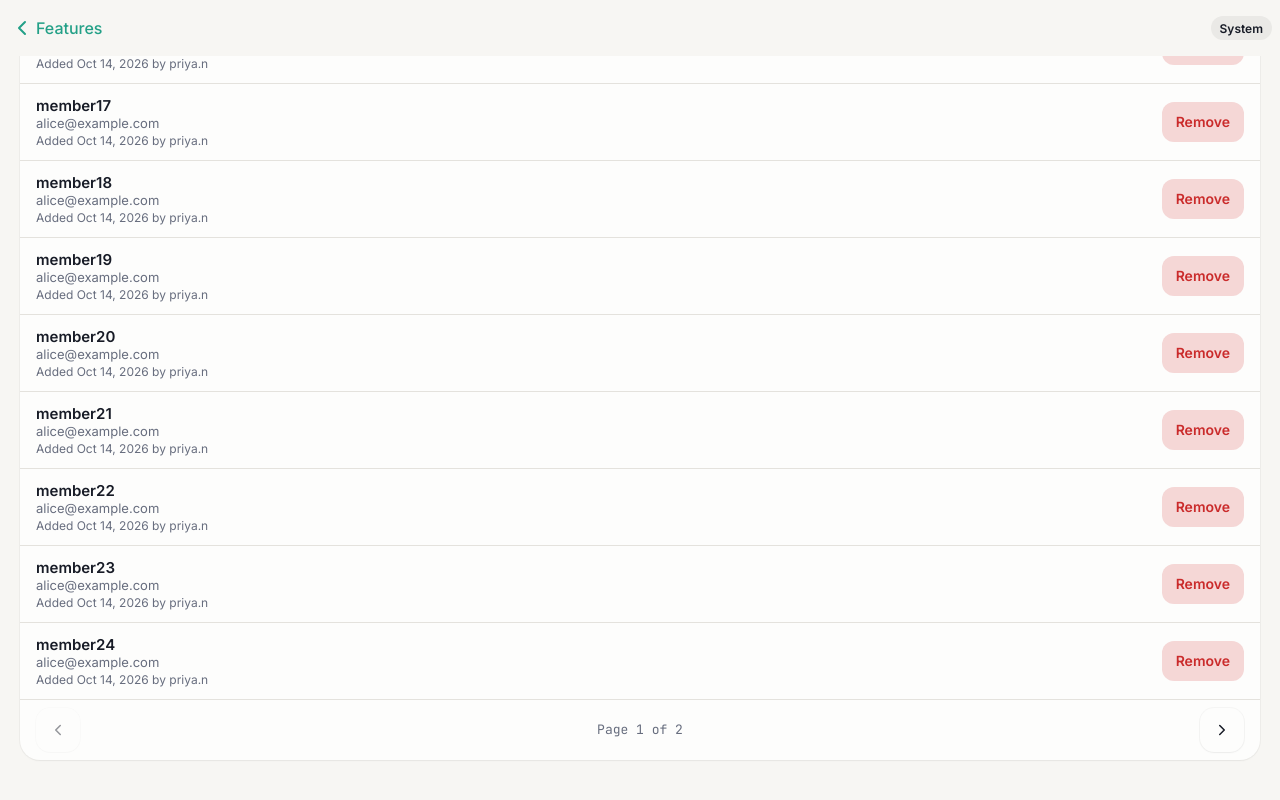
a feature's page below md › pages 25 at a time under the list, named as today
This screenshot has width=1280, height=800.
(page scrolled)
Click the button named "Next page" at (1222, 730), box [1200,708,1244,752]
(page scrolled)
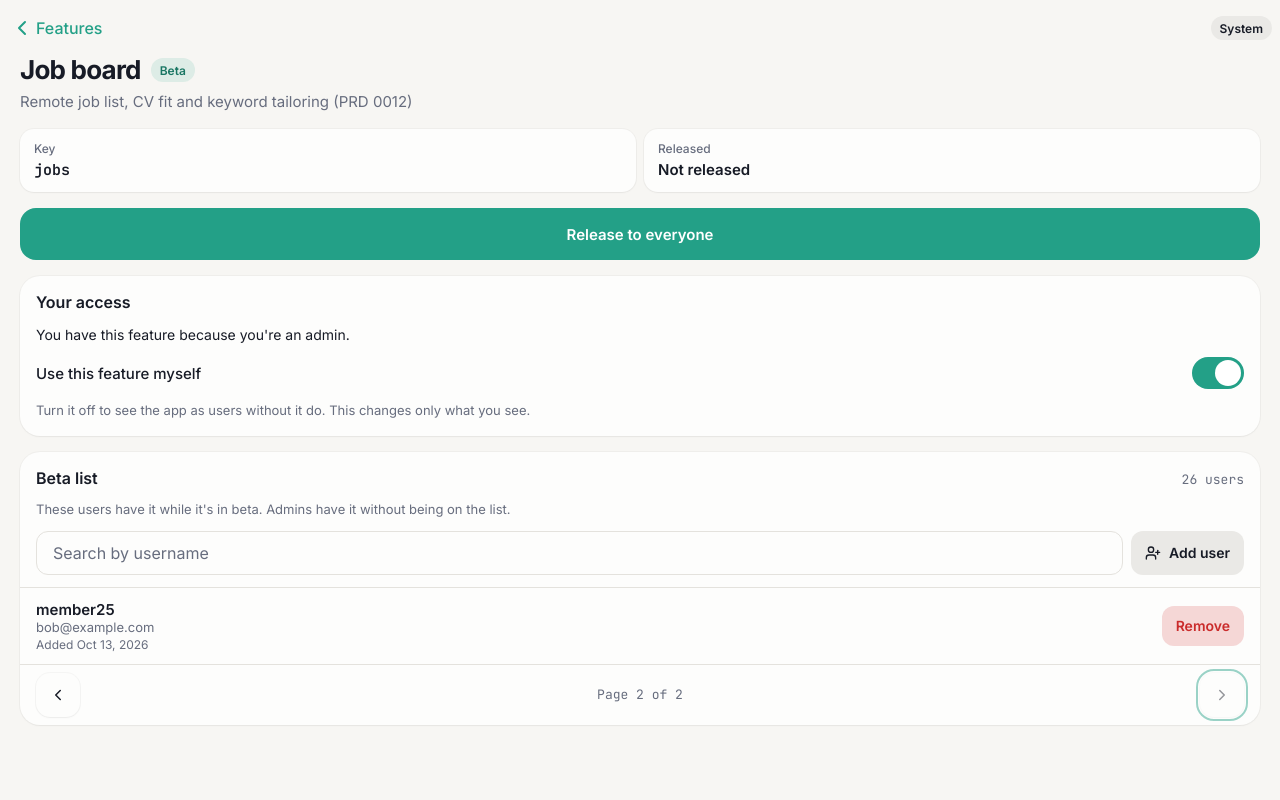
Now the text "member25" is shown, box [36,600,115,619]
